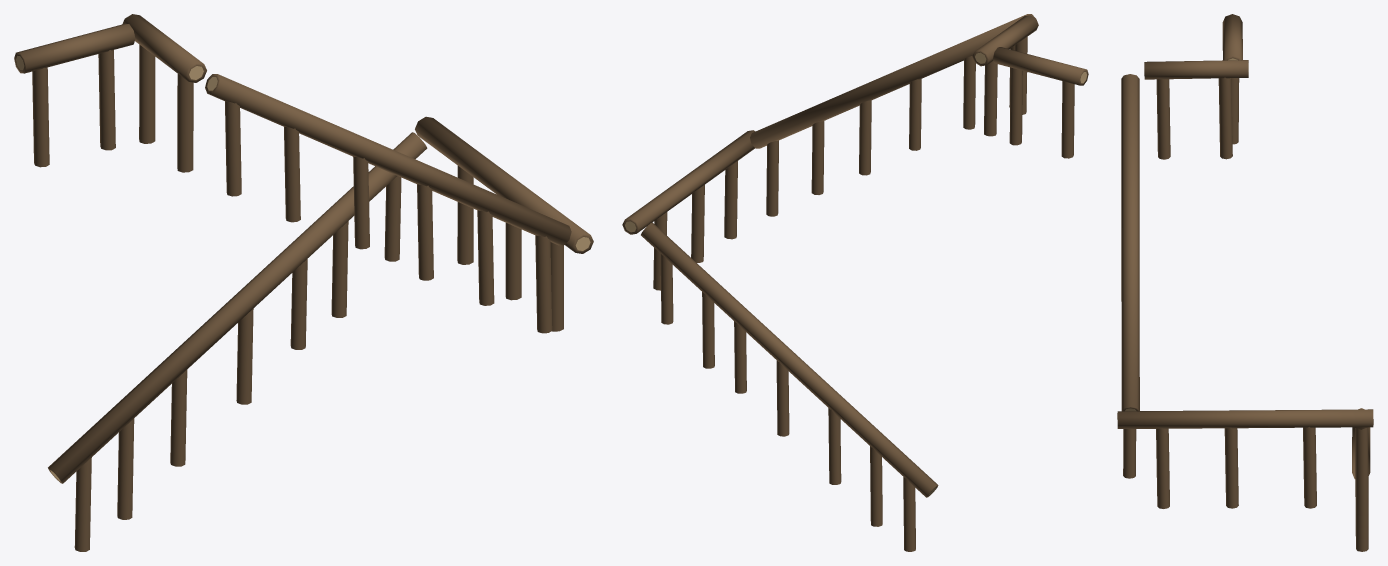
The model's file is rpgpp_ag_stairs_interior_01e_4m_handrail_01.fbx.
3 renders of one model, left to right at view 1: azimuth 30°, elevation 25°; view 2: azimuth 150°, elevation 25°; view 3: azimuth 270°, elevation 25°, orthographic. The views are drawn at different scales.
Parts seen in each view (by area): view 1: rpgpp_ag_stairs_interior_01e_4m_handrail_01; view 2: rpgpp_ag_stairs_interior_01e_4m_handrail_01; view 3: rpgpp_ag_stairs_interior_01e_4m_handrail_01.
Boxes of the visible parts, box(x1,y1,x2,y2) form: rpgpp_ag_stairs_interior_01e_4m_handrail_01: box(14, 14, 593, 551); rpgpp_ag_stairs_interior_01e_4m_handrail_01: box(622, 14, 1088, 551); rpgpp_ag_stairs_interior_01e_4m_handrail_01: box(1117, 14, 1373, 551).
Size of the model in its own units: 4.23 by 4.74 by 2.29.
